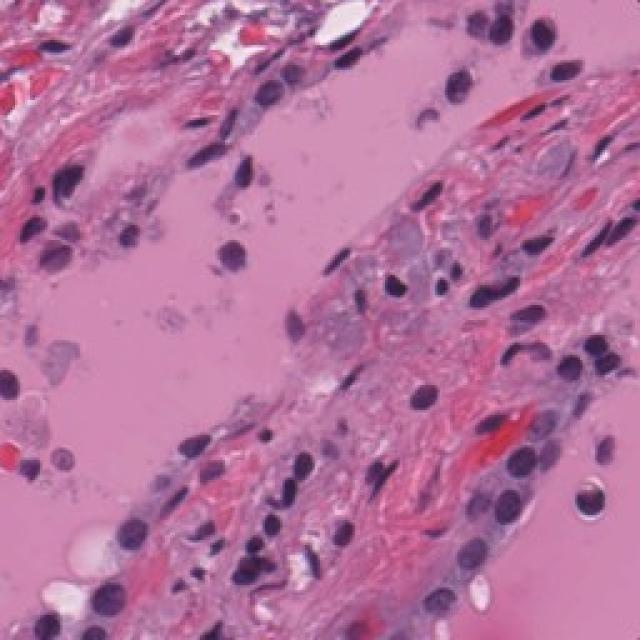normal: (480, 474, 547, 552), (102, 485, 164, 563), (494, 420, 551, 495), (442, 520, 501, 589), (414, 555, 466, 627), (542, 337, 595, 406), (80, 570, 138, 627)
